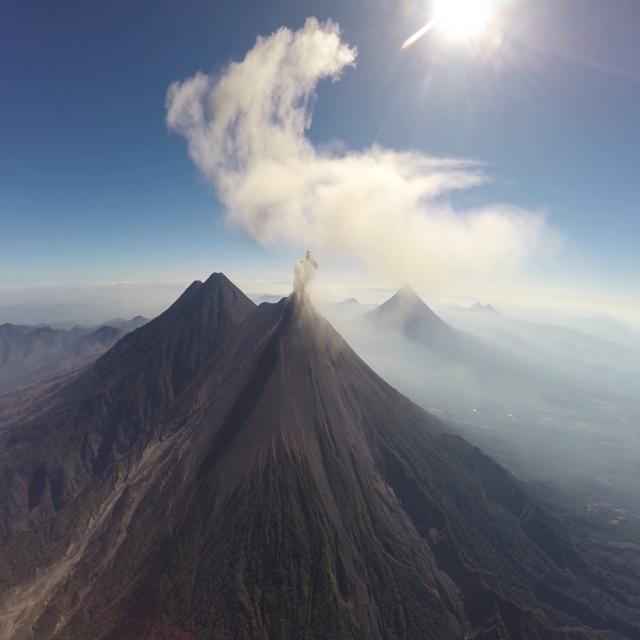Plume: (166, 16, 544, 282), (292, 249, 318, 297)
Summit: (288, 286, 312, 300)
